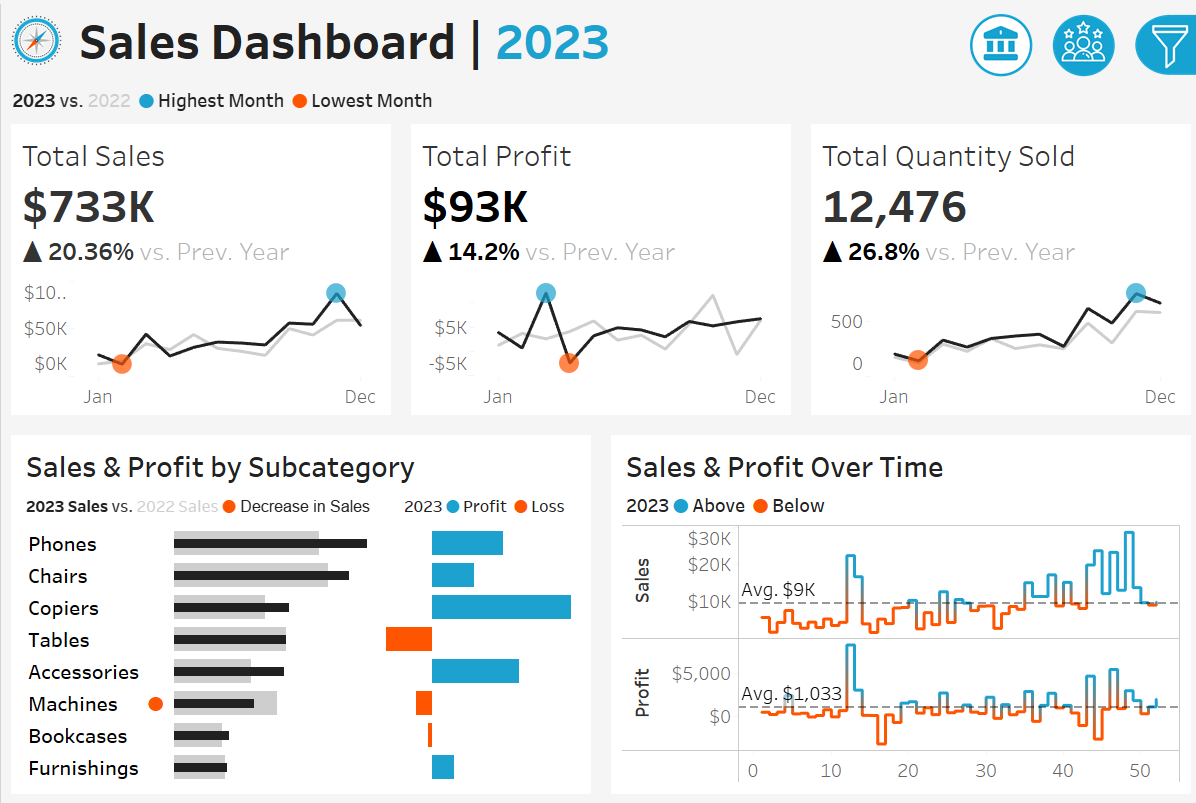

This screenshot's page, from the dashboard's own definition file:
{"tool":"tableau","page":{"name":"Sales Dashboard","canvas":[1200,800],"ordinal":1},"visuals":[{"type":"image","param":"C:/Users/srhee/OneDrive/Github Projects/Sales and Customer Data Analysis using T","box":[0,0,70,72]},{"type":"text","box":[70,0,873,72]},{"type":"dashboard-object","box":[959,5,83,72]},{"type":"dashboard-object","box":[1042,5,82,72]},{"type":"dashboard-object","box":[1124,5,82,72]},{"type":"blank","box":[961,10,226,79]},{"type":"worksheet","title":"Legend KPI","mark":"Automatic","box":[0,72,1200,48]},{"type":"text","box":[961,89,226,47]},{"type":"worksheet","title":"KPI Sales","mark":"Automatic","rows":["Calculation_1591178101679120393"],"cols":["Order Date"],"box":[0,120,400,301]},{"type":"worksheet","title":"KPI Profit","mark":"Automatic","rows":["Min/Max Sales (copy)_464996720032178179"],"cols":["Order Date"],"box":[400,120,400,301]},{"type":"worksheet","title":"KPI Quantity Sold","mark":"Automatic","rows":["Min/Max Profit (copy)_464996720073895955"],"cols":["Order Date"],"box":[800,120,400,301]},{"type":"parameter","param":"[Parameters].[Parameter 1]","box":[961,136,226,60]},{"type":"text","box":[961,196,226,39]},{"type":"filter","title":"KPI Sales","param":"[federated.0apc2ga17ln8ij0zq8lxf16pmbtc].[none:Category:nk]","box":[961,235,226,70]},{"type":"filter","title":"KPI Sales","param":"[federated.0apc2ga17ln8ij0zq8lxf16pmbtc].[none:Sub-Category:nk]","box":[961,305,226,70]},{"type":"text","box":[961,375,226,39]},{"type":"filter","title":"KPI Sales","param":"[federated.0apc2ga17ln8ij0zq8lxf16pmbtc].[none:Region:nk]","box":[961,414,226,70]},{"type":"text","box":[17,438,566,47]},{"type":"text","box":[617,438,566,47]},{"type":"filter","title":"KPI Sales","param":"[federated.0apc2ga17ln8ij0zq8lxf16pmbtc].[none:State:nk]","box":[961,484,226,70]},{"type":"worksheet","title":"Legend Subcategory","mark":"Automatic","box":[17,485,378,34]},{"type":"text","box":[395,485,188,34]},{"type":"text","box":[617,485,566,32]},{"type":"worksheet","title":"Weekly Trends","mark":"Automatic","rows":["Calculation_1591178101664243717","Calculation_464996720031498241"],"cols":["Order Date"],"box":[617,517,566,266]},{"type":"worksheet","title":"Subcategory Comparisons","mark":"Bar","rows":["Sub-Category","Calculation_464996720091553816"],"cols":["Current Year Sales (copy)_1591178101665931270","Calculation_1591178101664243717","Calculation_464996720031498241"],"box":[17,519,566,264]},{"type":"filter","title":"KPI Sales","param":"[federated.0apc2ga17ln8ij0zq8lxf16pmbtc].[none:City:nk]","box":[961,554,226,70]}]}

Visuals, with their boxes in screenshot pixels (x1, y1, x2, y2), scaled from the page's 1200x800 canvas onto the 1196x803 screenshot:
image: 0,0,70,72
text: 70,0,940,72
dashboard-object: 956,5,1039,77
dashboard-object: 1039,5,1120,77
dashboard-object: 1120,5,1195,77
blank: 958,10,1183,89
"Legend KPI" worksheet: 0,72,1195,120
text: 958,89,1183,137
"KPI Sales" worksheet: 0,120,399,423
"KPI Profit" worksheet: 399,120,797,423
"KPI Quantity Sold" worksheet: 797,120,1195,423
parameter: 958,137,1183,197
text: 958,197,1183,236
"KPI Sales" filter: 958,236,1183,306
"KPI Sales" filter: 958,306,1183,376
text: 958,376,1183,416
"KPI Sales" filter: 958,416,1183,486
text: 17,440,581,487
text: 615,440,1179,487
"KPI Sales" filter: 958,486,1183,556
"Legend Subcategory" worksheet: 17,487,394,521
text: 394,487,581,521
text: 615,487,1179,519
"Weekly Trends" worksheet: 615,519,1179,786
"Subcategory Comparisons" worksheet (Bar marks): 17,521,581,786
"KPI Sales" filter: 958,556,1183,626
